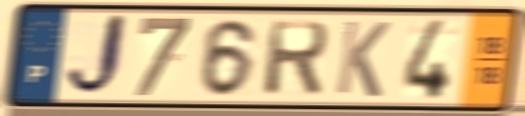4: (401, 16, 454, 102)
6: (201, 17, 262, 99)
7: (131, 15, 194, 98)
J: (62, 11, 131, 102)
K: (332, 17, 393, 100)
R: (261, 18, 332, 99)
